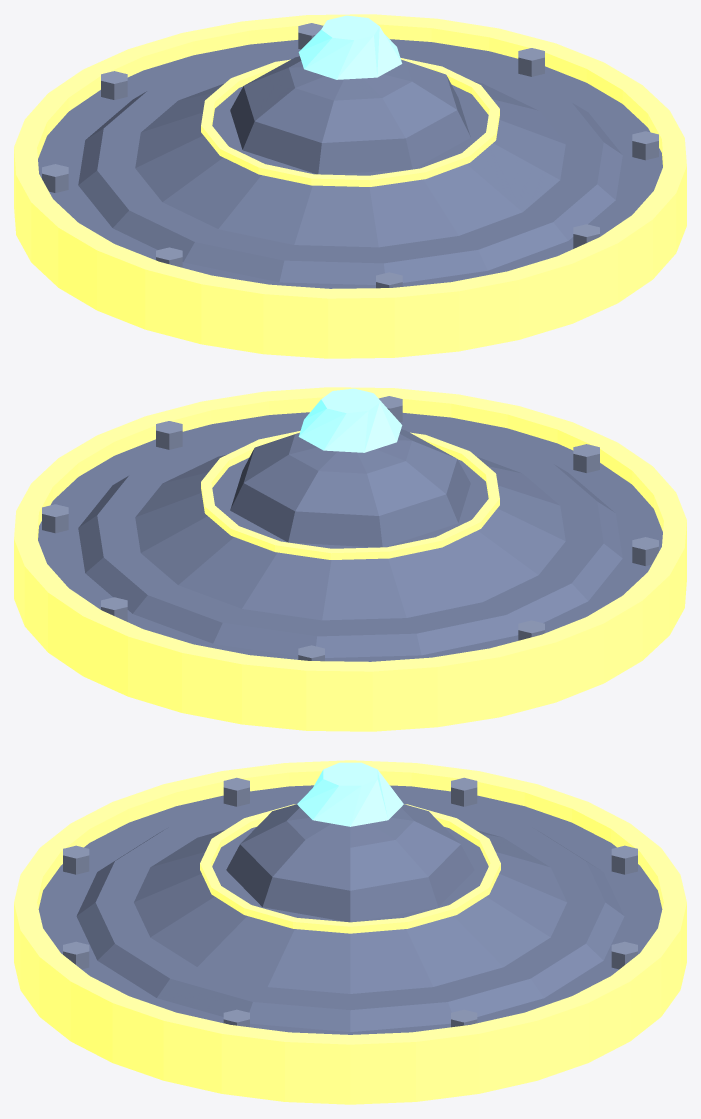
File: player_shield.glb
The picture shows the model from 3 angles, top to bottom: view 1: azimuth 30°, elevation 25°; view 2: azimuth 150°, elevation 25°; view 3: azimuth 270°, elevation 25°; orthographic projection.
Visible parts, largest first — view 1: PlayerShield; view 2: PlayerShield; view 3: PlayerShield.
Part boxes in pixels (x1,y1,x2,y2): PlayerShield: [14, 14, 686, 358]; PlayerShield: [14, 387, 686, 731]; PlayerShield: [14, 760, 686, 1104].
Bounding box in the file's own units: 0.528 × 0.22 × 0.528.
